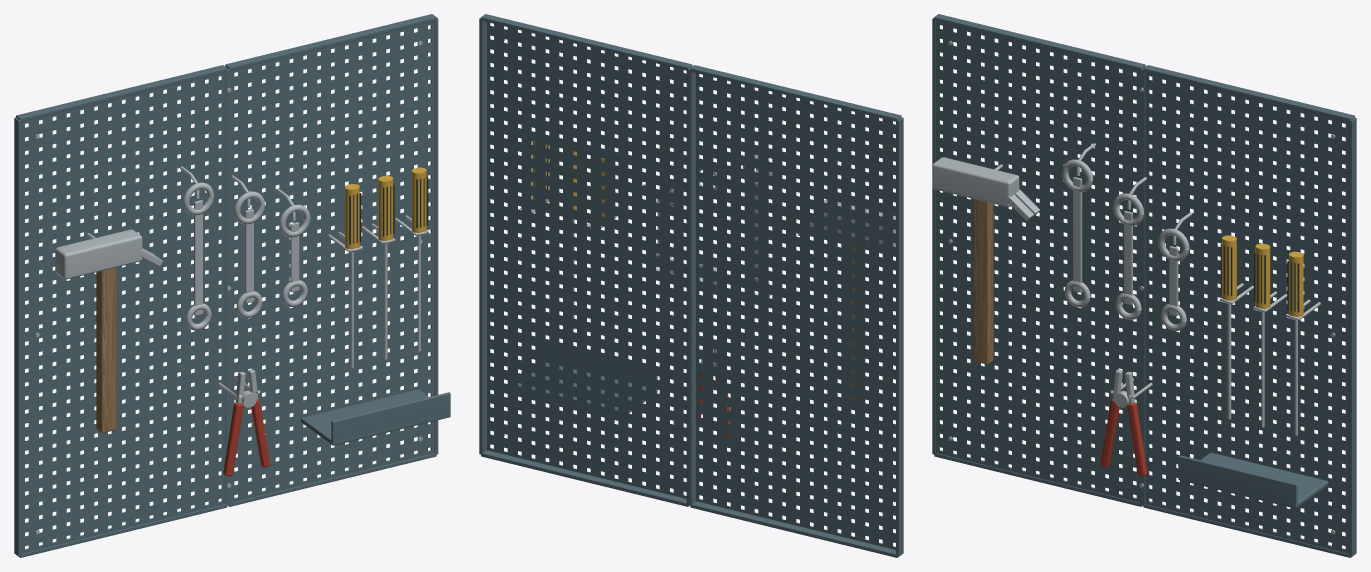
File: garage-pegboard-tools.glb
The picture shows the model from 3 angles, left to right: view 1: azimuth 30°, elevation 25°; view 2: azimuth 150°, elevation 25°; view 3: azimuth 330°, elevation 25°; orthographic projection.
Visible parts, largest first — view 1: catalog_surface_RealismUV, catalog_surface_UVMap; view 2: catalog_surface_RealismUV; view 3: catalog_surface_RealismUV, catalog_surface_UVMap.
Part boxes in pixels (left/top/right/bottom): catalog_surface_RealismUV: left=14, top=14, right=450, bottom=557; catalog_surface_UVMap: left=96, top=267, right=116, bottom=432; catalog_surface_RealismUV: left=479, top=14, right=903, bottom=557; catalog_surface_RealismUV: left=932, top=14, right=1356, bottom=557; catalog_surface_UVMap: left=973, top=199, right=993, bottom=364.
Size of the model in its own units: 0.813 by 0.813 by 0.13.
6 materials, 1 textured.
